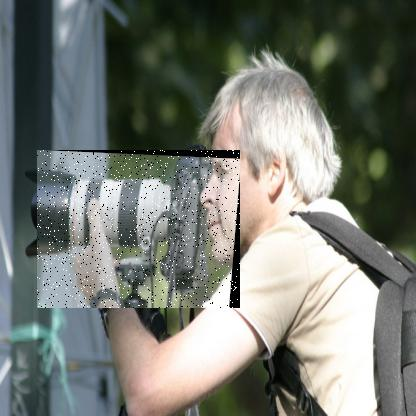Camera: (38, 151, 242, 310)
